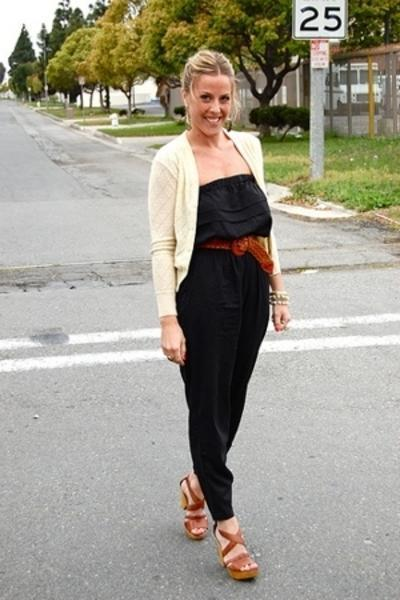dress: (175, 171, 276, 538)
jacket: (144, 131, 263, 320)
shoe: (184, 500, 251, 582)
